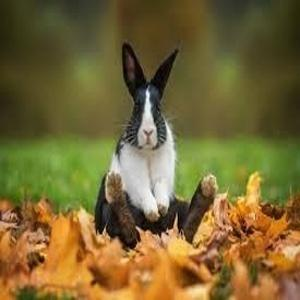rabbit: (95, 41, 203, 247)
